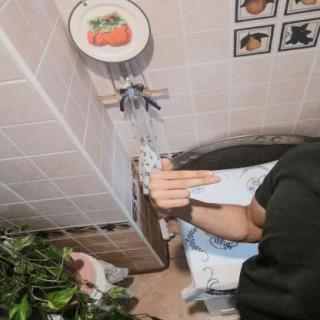GHAYN: (141, 154, 229, 220)
